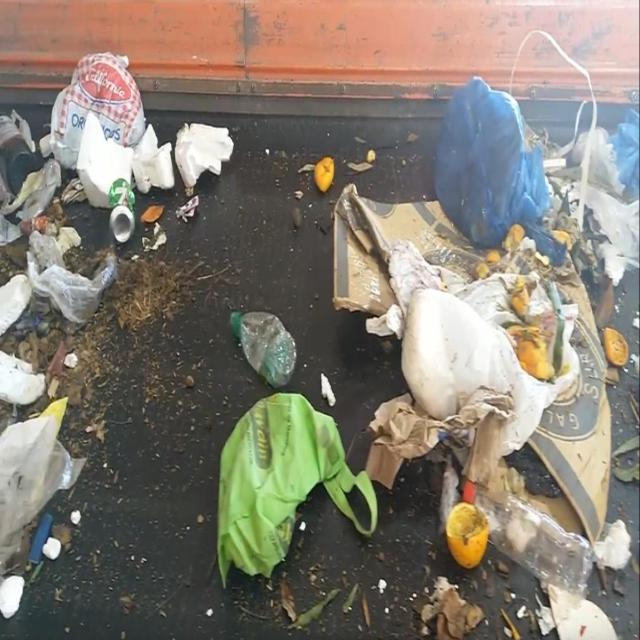bottle: (485, 478, 591, 601), (227, 295, 304, 397)
